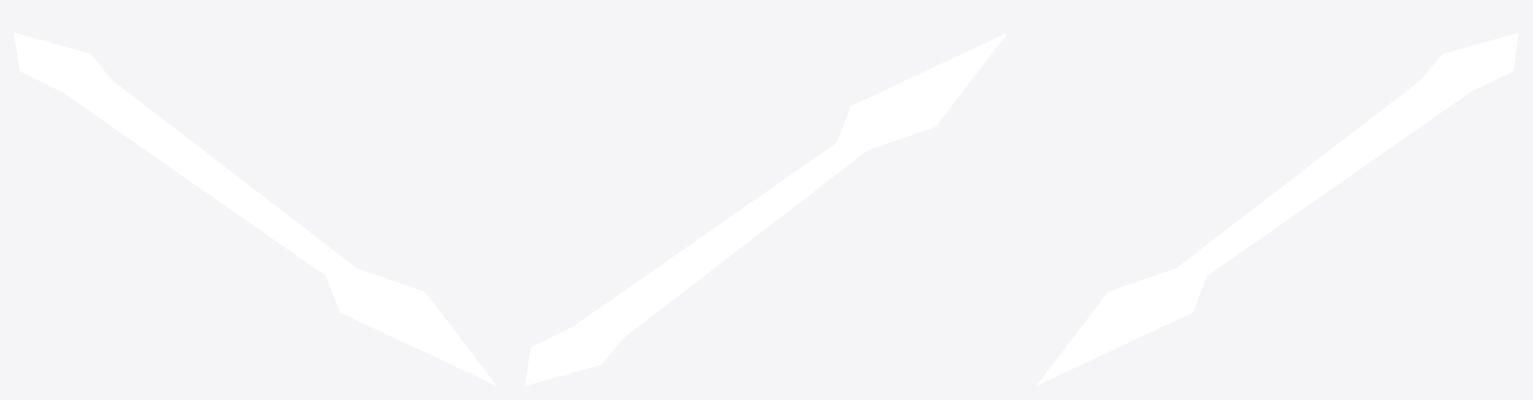
File: clock_hand.glb
3 renders of one model, left to right at view 1: azimuth 30°, elevation 25°; view 2: azimuth 150°, elevation 25°; view 3: azimuth 330°, elevation 25°, orthographic.
Visible parts, largest first — view 1: hand; view 2: hand; view 3: hand.
Boxes of the visible parts, x1,y1,x2,y2 form: hand: (14, 32, 496, 385); hand: (525, 33, 1007, 385); hand: (1036, 32, 1518, 385).
Bounding box in the file's own units: 0.12 × 0.025 × 1.18.
1 material, 1 textured.
